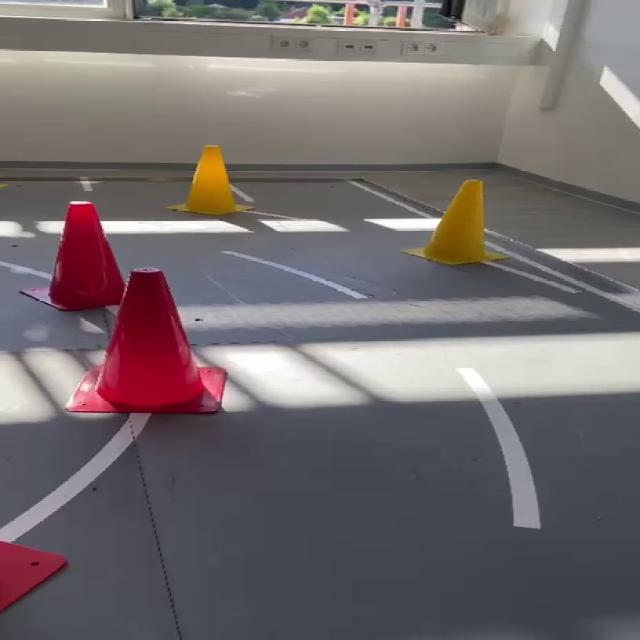Cone-red: (0, 202, 226, 413), (21, 202, 226, 413), (0, 538, 65, 611), (0, 541, 65, 611)
Cones-yellow: (403, 180, 508, 265), (171, 145, 251, 215)
